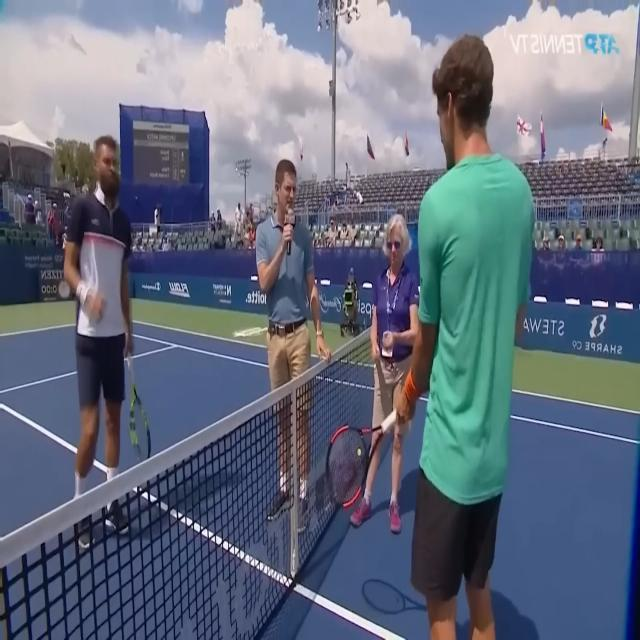player: (324, 32, 538, 640)
